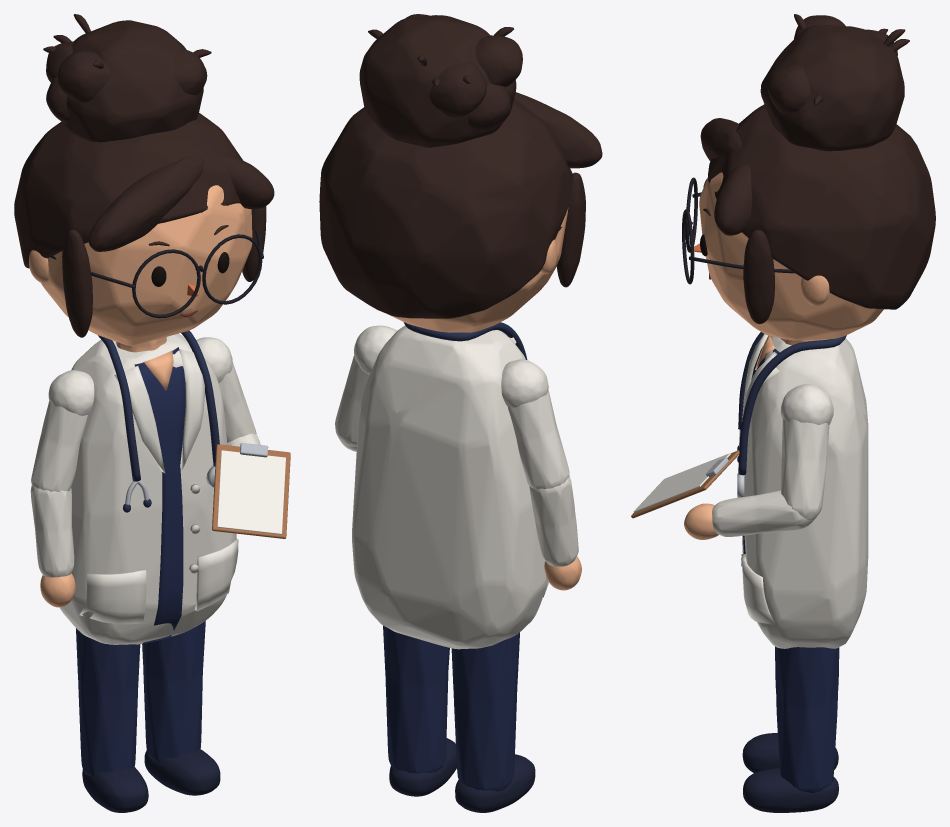
Rendered from doctor.glb.
The picture shows the model from 3 angles, left to right: view 1: azimuth 30°, elevation 25°; view 2: azimuth 150°, elevation 25°; view 3: azimuth 270°, elevation 25°; orthographic projection. The views are drawn at different scales.
Visible parts, largest first — view 1: Doctor_Coat, Doctor_Hair_Cap, Doctor_Skull, Doctor_Bun, Doctor_Leg_R, Doctor_Leg_L, Doctor_Scrubs_Front, Doctor_Fringe_R, Doctor_Clipboard_Paper, Doctor_UpperArm_R, Doctor_Forearm_R, Doctor_Pocket_R (+23 smaller); view 2: Doctor_Coat, Doctor_Hair_Cap, Doctor_Bun, Doctor_Leg_R, Doctor_Leg_L, Doctor_UpperArm_R, Doctor_Forearm_R, Doctor_Skull, Doctor_Fringe_R, Doctor_BunLump_1, Doctor_Shoe_R, Doctor_Lock_R (+8 smaller); view 3: Doctor_Hair_Cap, Doctor_Coat, Doctor_Bun, Doctor_Leg_L, Doctor_Skull, Doctor_UpperArm_L, Doctor_Forearm_L, Doctor_Shoe_L, Doctor_Lock_L, Doctor_Steth_Tube, Doctor_Fringe_L, Doctor_Shoulder_L (+9 smaller).
Part boxes in pixels (<box>): Doctor_Coat: <box>59,333,236,644</box>; Doctor_Hair_Cap: <box>14,113,242,268</box>; Doctor_Skull: <box>41,185,252,345</box>; Doctor_Bun: <box>63,20,203,142</box>; Doctor_Leg_R: <box>76,628,140,776</box>; Doctor_Leg_L: <box>142,620,205,761</box>; Doctor_Scrubs_Front: <box>134,347,185,643</box>; Doctor_Fringe_R: <box>88,154,204,251</box>; Doctor_Clipboard_Paper: <box>217,450,285,534</box>; Doctor_UpperArm_R: <box>31,401,87,491</box>; Doctor_Forearm_R: <box>30,485,74,577</box>; Doctor_Pocket_R: <box>79,569,146,624</box>; Doctor_Coat: <box>352,325,547,649</box>; Doctor_Hair_Cap: <box>319,98,570,318</box>; Doctor_Bun: <box>359,15,516,147</box>; Doctor_Leg_R: <box>451,632,519,791</box>; Doctor_Leg_L: <box>383,625,449,773</box>; Doctor_UpperArm_R: <box>508,389,569,489</box>; Doctor_Forearm_R: <box>529,475,578,566</box>; Doctor_Skull: <box>390,207,568,332</box>; Doctor_Fringe_R: <box>514,92,602,168</box>; Doctor_BunLump_1: <box>429,62,486,117</box>; Doctor_Shoe_R: <box>455,754,535,812</box>; Doctor_Lock_R: <box>556,172,585,287</box>; Doctor_Hair_Cap: <box>707,104,935,309</box>; Doctor_Coat: <box>744,336,868,648</box>; Doctor_Bun: <box>760,24,904,151</box>; Doctor_Leg_L: <box>775,646,839,792</box>; Doctor_Skull: <box>699,172,883,340</box>; Doctor_UpperArm_L: <box>781,418,829,520</box>; Doctor_Forearm_L: <box>712,490,814,536</box>; Doctor_Shoe_L: <box>743,768,838,812</box>; Doctor_Lock_L: <box>743,229,774,324</box>; Doctor_Steth_Tube: <box>738,332,846,475</box>; Doctor_Fringe_L: <box>714,164,752,235</box>; Doctor_Shoulder_L: <box>780,384,833,424</box>.
Size of the model in its own units: 1.83 by 5.94 by 2.16.
